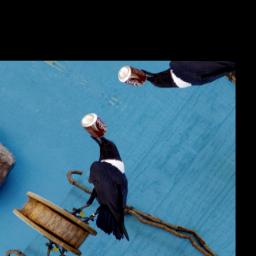Crow: (41, 129, 176, 249)
